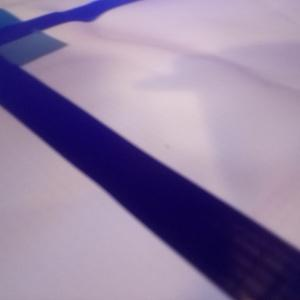bottom_right: (1, 29, 69, 70)
